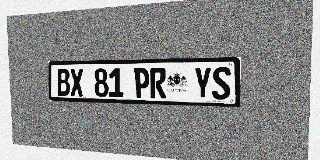1: (108, 68, 123, 97)
8: (94, 68, 108, 97)
B: (57, 69, 70, 96)
P: (134, 68, 150, 98)
R: (150, 67, 166, 98)
S: (212, 67, 231, 100)
X: (70, 69, 84, 96)
Y: (194, 67, 212, 99)
